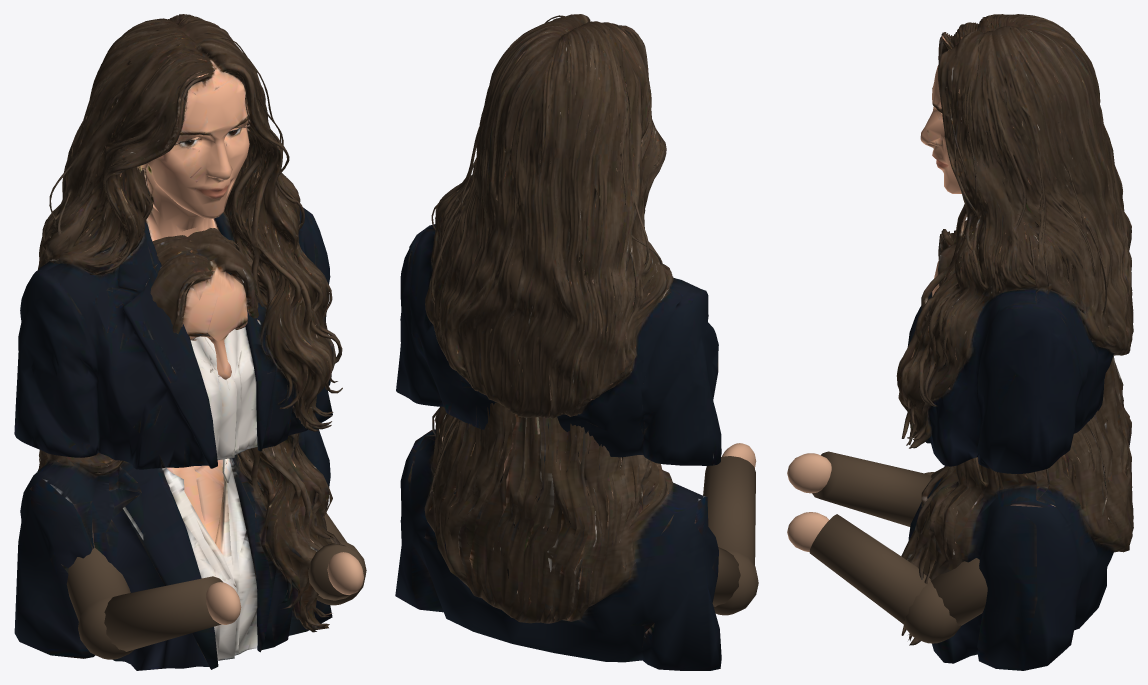
File: mira-runtime.glb
3 views of the same model, side by side, from view 1: azimuth 30°, elevation 25°; view 2: azimuth 150°, elevation 25°; view 3: azimuth 270°, elevation 25° (orthographic). The views are drawn at different scales.
Parts seen in each view (by area): view 1: mira / portrait sculpture, mira / driving sculpture, mira / driving sleeves, mira / driving hands; view 2: mira / portrait sculpture, mira / driving sculpture, mira / driving sleeves; view 3: mira / portrait sculpture, mira / driving sculpture, mira / driving sleeves, mira / driving hands.
Part boxes in pixels (x1,y1,x2,y2): mira / portrait sculpture: [14, 14, 342, 469]; mira / driving sculpture: [14, 228, 340, 670]; mira / driving sleeves: [66, 513, 366, 659]; mira / driving hands: [206, 552, 363, 624]; mira / portrait sculpture: [396, 14, 721, 465]; mira / driving sculpture: [395, 402, 721, 670]; mira / driving sleeves: [703, 456, 758, 615]; mira / portrait sculpture: [896, 14, 1133, 473]; mira / driving sculpture: [901, 220, 1133, 670]; mira / driving sleeves: [809, 451, 987, 643]; mira / driving hands: [787, 453, 831, 551].
Bounding box in the file's own units: 0.8079 × 1.5 × 0.798.
3 materials, 1 textured.
